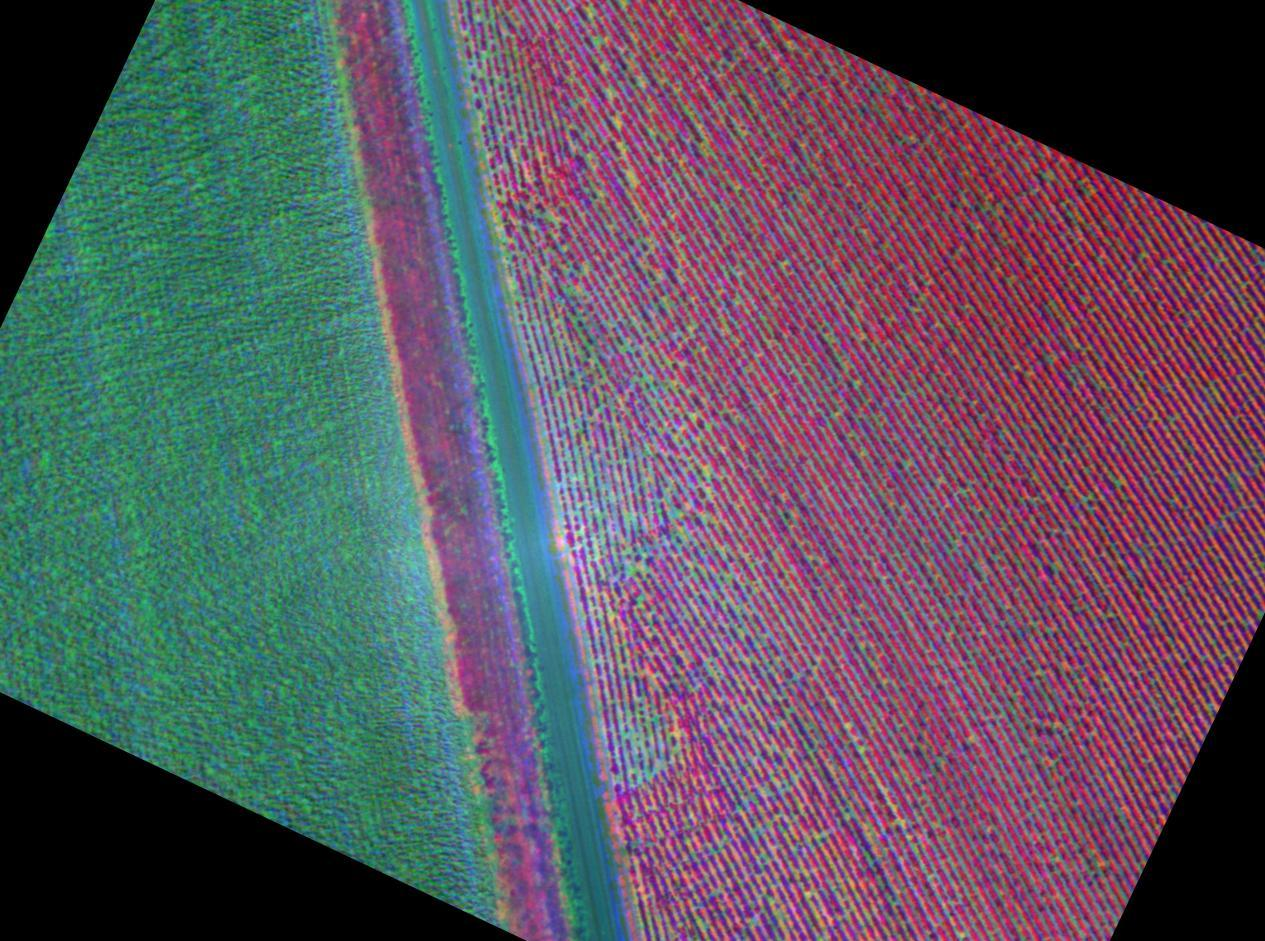dc: (764, 788, 770, 794), (630, 733, 636, 738), (627, 175, 632, 180), (637, 80, 642, 85), (769, 898, 773, 904), (815, 836, 820, 840), (896, 820, 900, 824), (698, 919, 702, 923)
